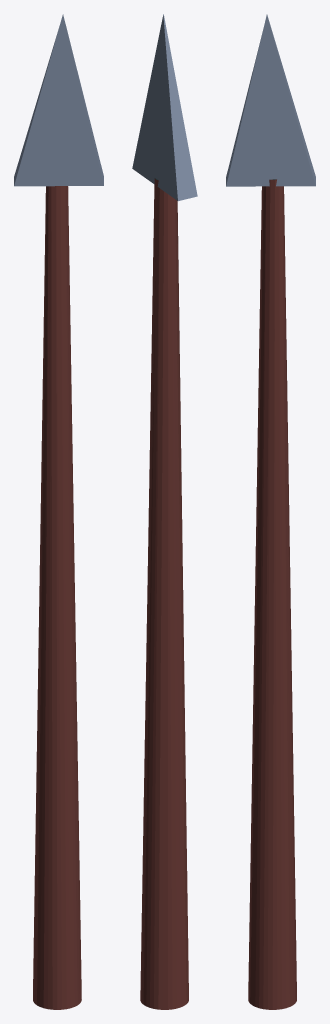
Rendered from lanza.fbx.
3 renders of one model, left to right at view 1: azimuth 90°, elevation 25°; view 2: azimuth 210°, elevation 25°; view 3: azimuth 270°, elevation 25°, orthographic.
Visible parts, largest first — view 1: lanza; view 2: lanza; view 3: lanza.
Part boxes in pixels (x1,y1,x2,y2): lanza: (14,14,103,1009); lanza: (132,14,197,1009); lanza: (226,14,315,1009).
Size of the model in its own units: 9.09 by 202 by 16.68.
1 material, 1 textured.
